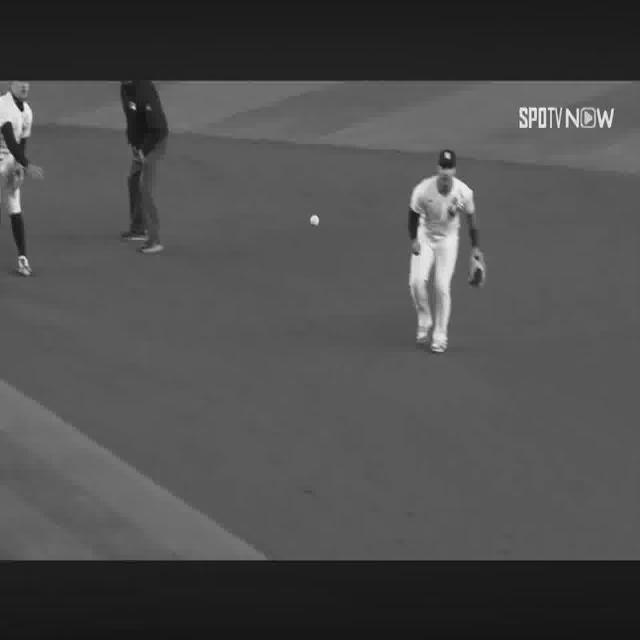baseball: (310, 215, 318, 226)
baseball_glove: (0, 158, 24, 192), (469, 245, 486, 287)
shoe: (142, 237, 164, 255), (124, 227, 145, 244), (416, 321, 431, 343), (430, 337, 449, 353), (16, 254, 29, 276)
